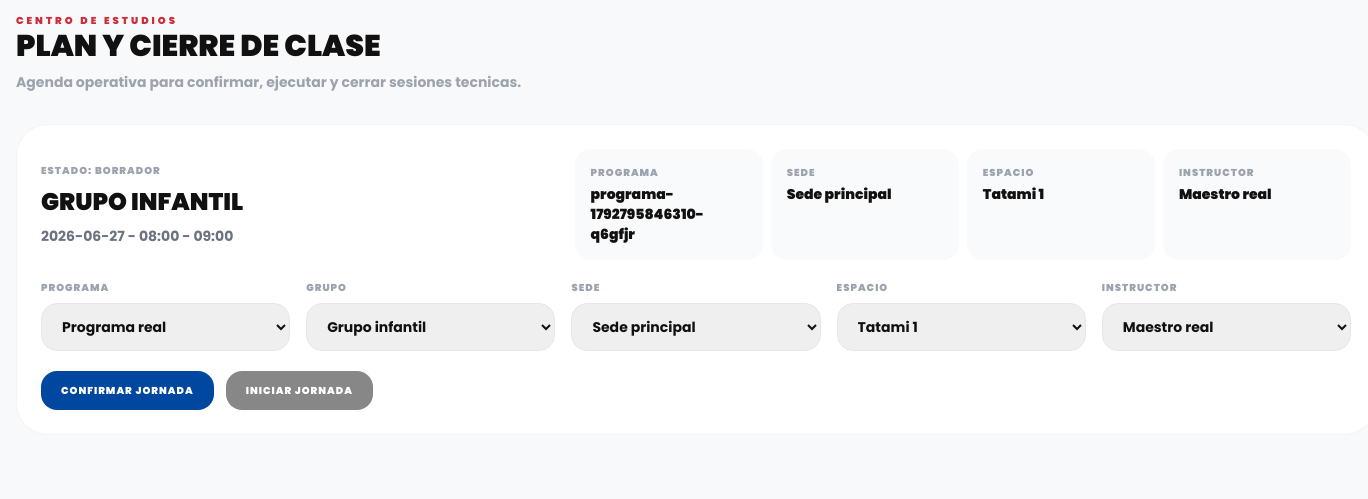
Test: JornadasView › bloquea confirmacion y muestra mensaje especifico si el conflicto es de instructor
Click the button "Confirmar jornada" at (127, 390), box [41,371,214,410]
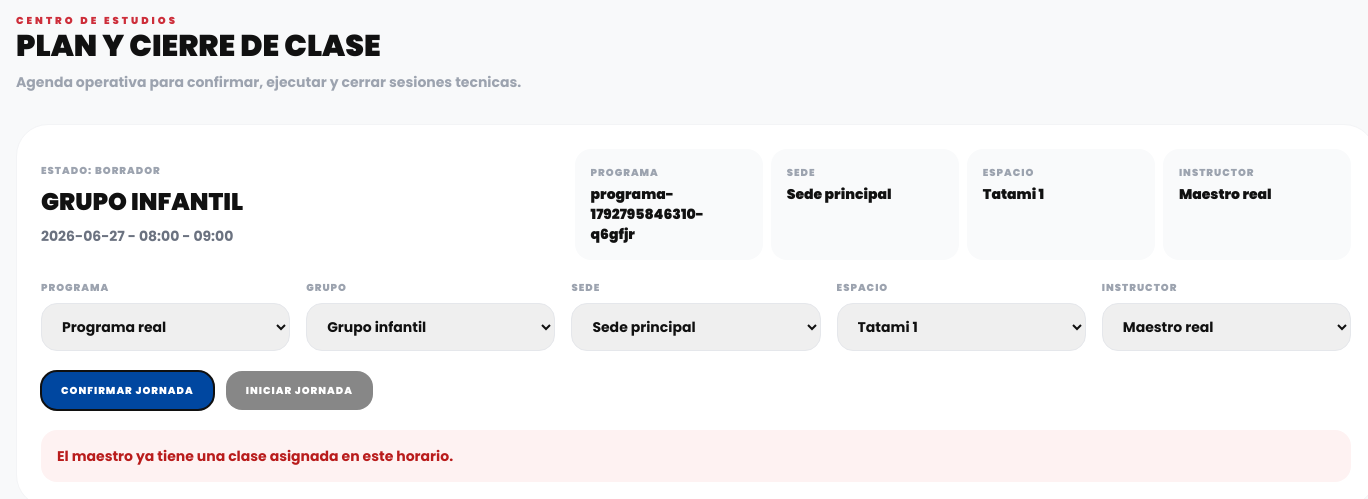
Expected: the text "El maestro ya tiene una clase asignada en este horario." is shown, [41,430,1351,482]
